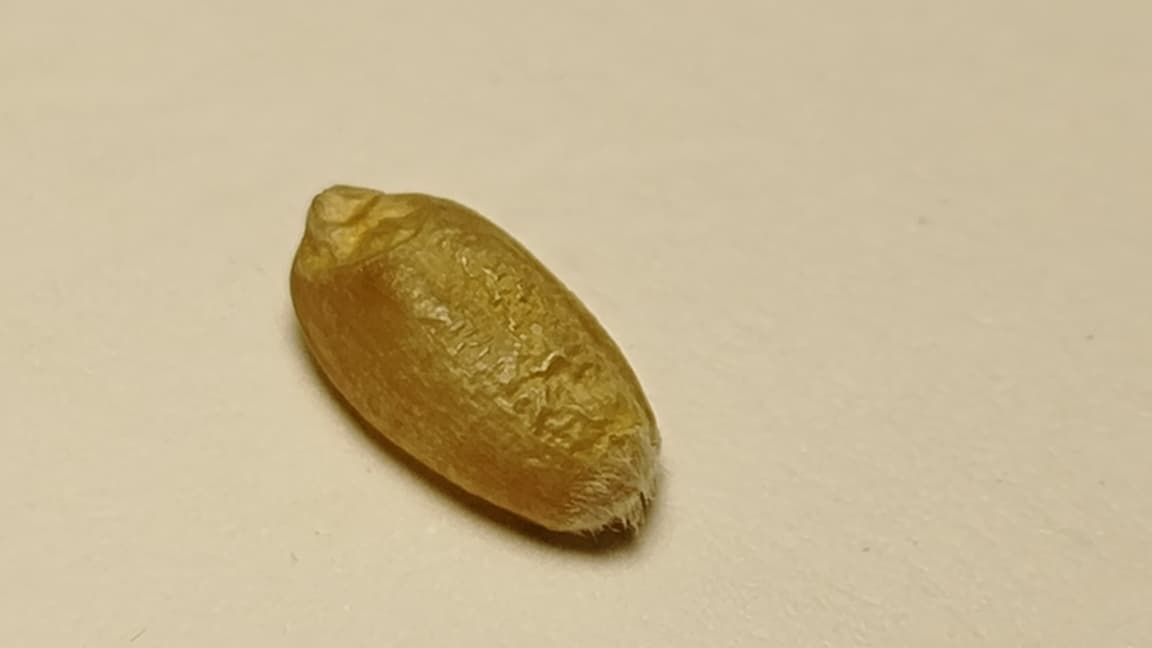healthy: (292, 186, 659, 531)
objects: (292, 186, 658, 530)
